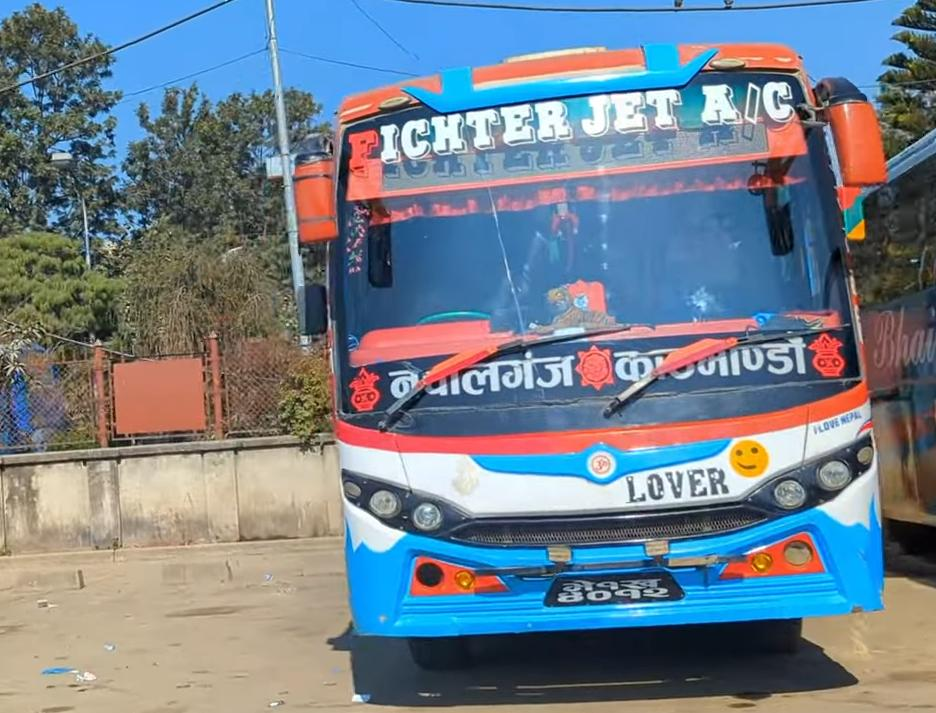bus: (287, 34, 907, 677)
